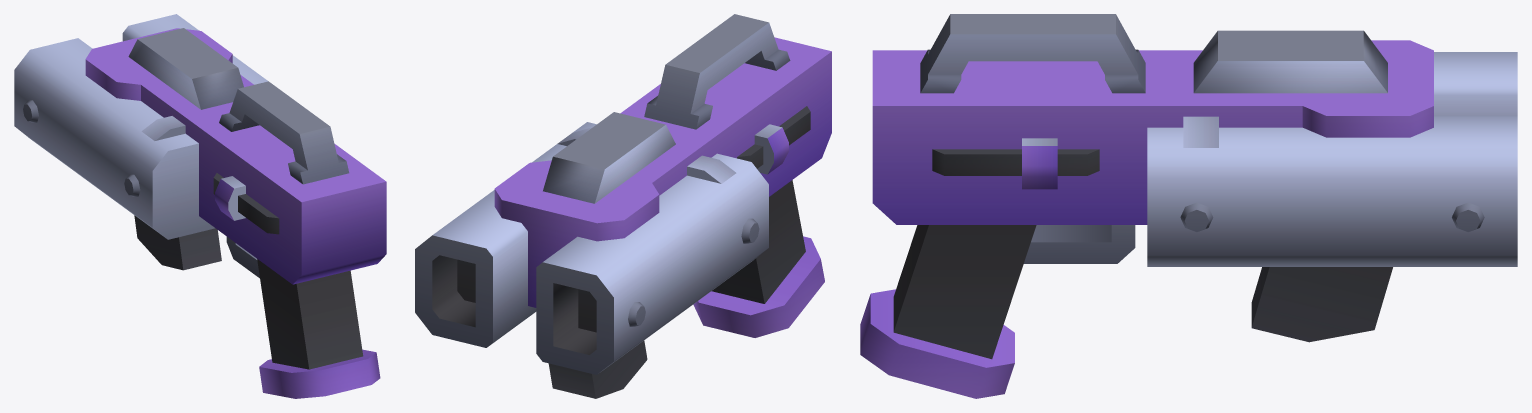
File: blaster-l.glb
3 views of the same model, side by side, from view 1: azimuth 30°, elevation 25°; view 2: azimuth 150°, elevation 25°; view 3: azimuth 270°, elevation 25° (orthographic). The views are drawn at different scales.
Visible parts, largest first — view 1: blaster-l; view 2: blaster-l; view 3: blaster-l.
Part boxes in pixels (x1=…): blaster-l: x1=14, y1=14, x2=386, y2=398; blaster-l: x1=415, y1=14, x2=831, y2=398; blaster-l: x1=860, y1=14, x2=1517, y2=398.
Size of the model in its own units: 0.2438 by 0.3279 by 0.5504.
Materials: 1 (1 with a texture image).
